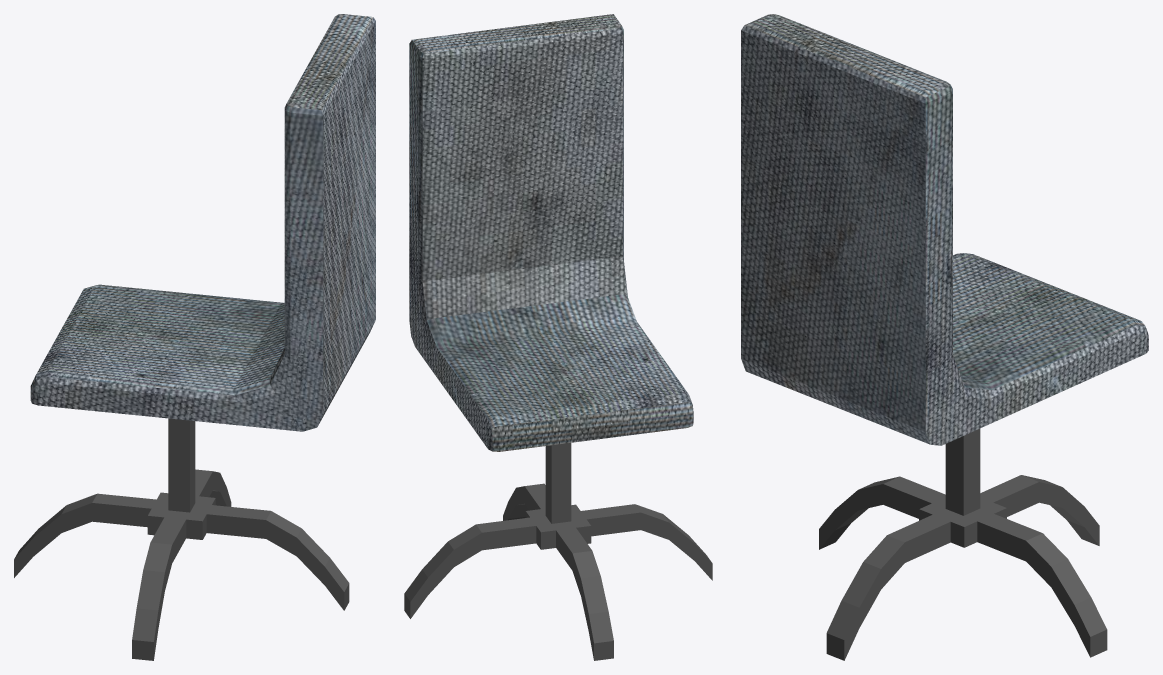
The model's file is chair.glb.
3 renders of one model, left to right at view 1: azimuth 30°, elevation 25°; view 2: azimuth 150°, elevation 25°; view 3: azimuth 270°, elevation 25°, orthographic. The views are drawn at different scales.
Visible parts, largest first — view 1: chair-col; view 2: chair-col; view 3: chair-col.
Boxes of the visible parts, <box> form: chair-col: <box>14,14,375,660</box>; chair-col: <box>404,14,712,660</box>; chair-col: <box>741,14,1148,660</box>.
Bounding box in the file's own units: 0.802 × 1.29 × 0.7952.
Materials: 2 (1 with a texture image).
